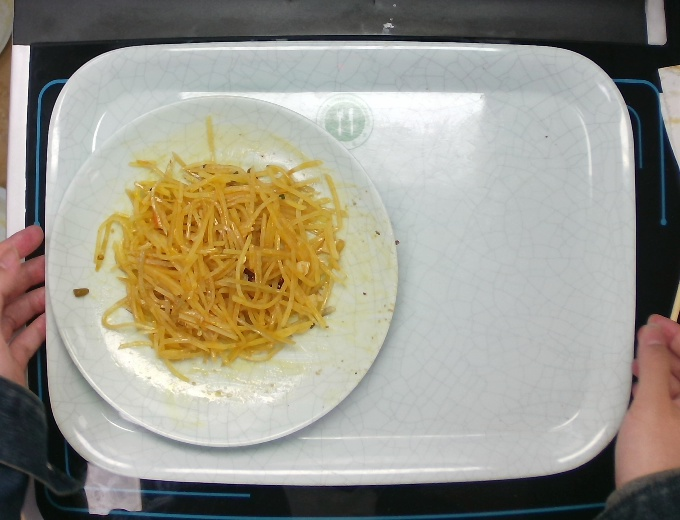JYsf-Da_Yuan_Pan: (42, 90, 402, 453)
